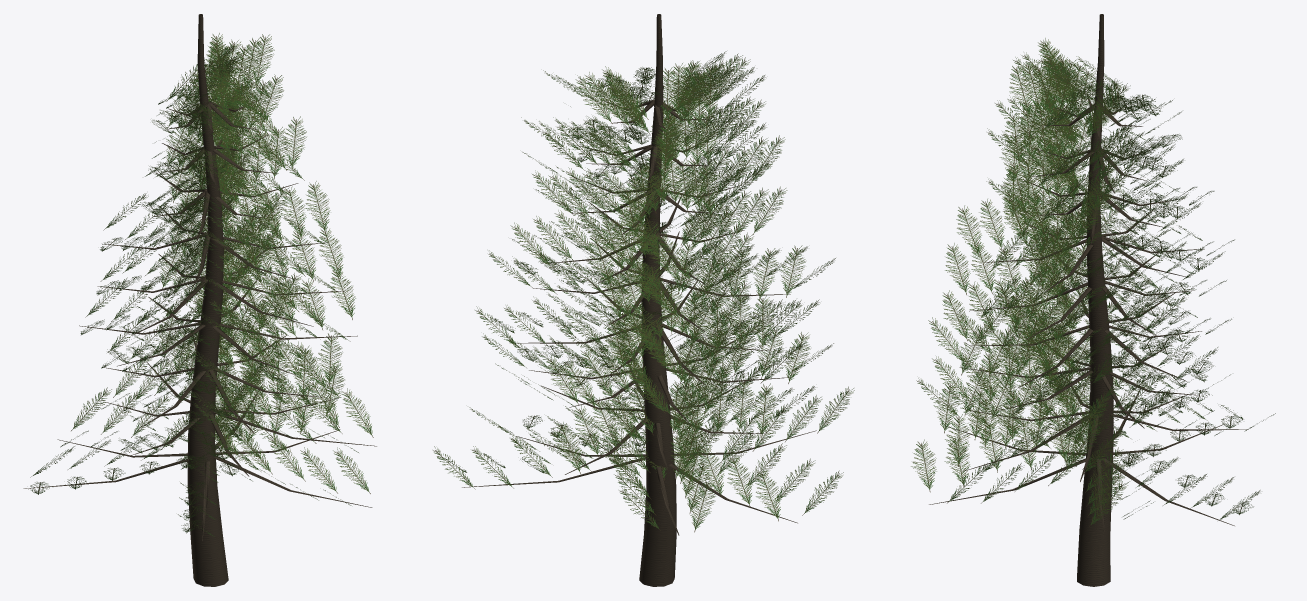
File: Pine_47_LOD0.fbx
3 views of the same model, side by side, from view 1: azimuth 30°, elevation 25°; view 2: azimuth 150°, elevation 25°; view 3: azimuth 270°, elevation 25° (orthographic).
Parts seen in each view (by area): view 1: Pine_47_LOD0; view 2: Pine_47_LOD0; view 3: Pine_47_LOD0.
Part boxes in pixels (x1,y1,x2,y2): Pine_47_LOD0: [23, 14, 376, 586]; Pine_47_LOD0: [433, 14, 854, 586]; Pine_47_LOD0: [911, 14, 1275, 586].
Size of the model in its own units: 619 by 906 by 578.
